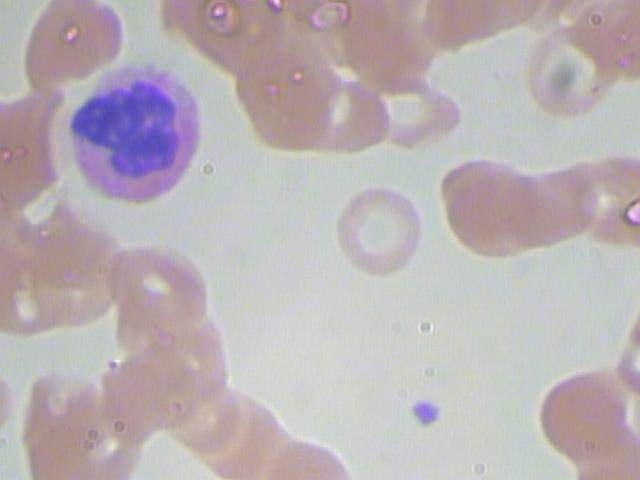RBC: (435, 154, 549, 266), (228, 51, 343, 160), (104, 240, 218, 338), (524, 363, 638, 460), (513, 20, 627, 117), (15, 1, 130, 96), (328, 181, 430, 281), (373, 69, 464, 149)
